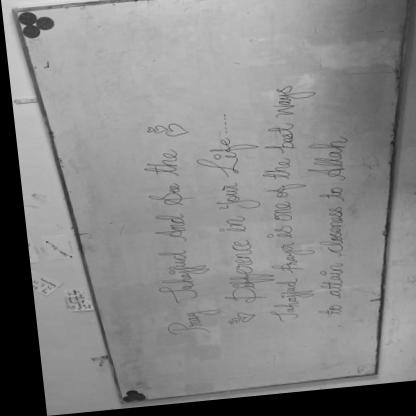Handwritten text: (125, 142, 212, 344), (188, 131, 262, 314), (249, 80, 300, 334), (296, 140, 350, 330)
